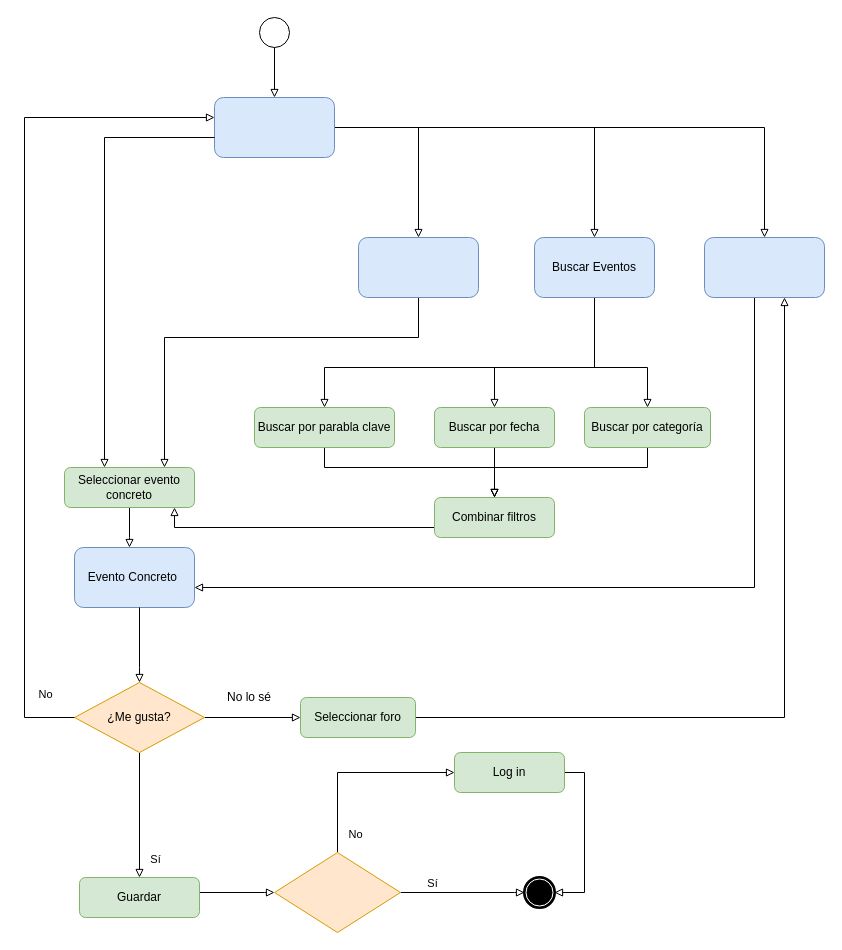
The diagram is 842 pixels wide and 950 high, and some of its shapes have lost their labels. The shapes that lost their labels are listed below. From the top down, each one's centre as x and y in pixels, then its label:
point (274, 127): Home
point (418, 267): Eventos
point (764, 267): Foro
point (337, 892): ¿Ha iniciado sesión?
point (539, 892): Guardado
